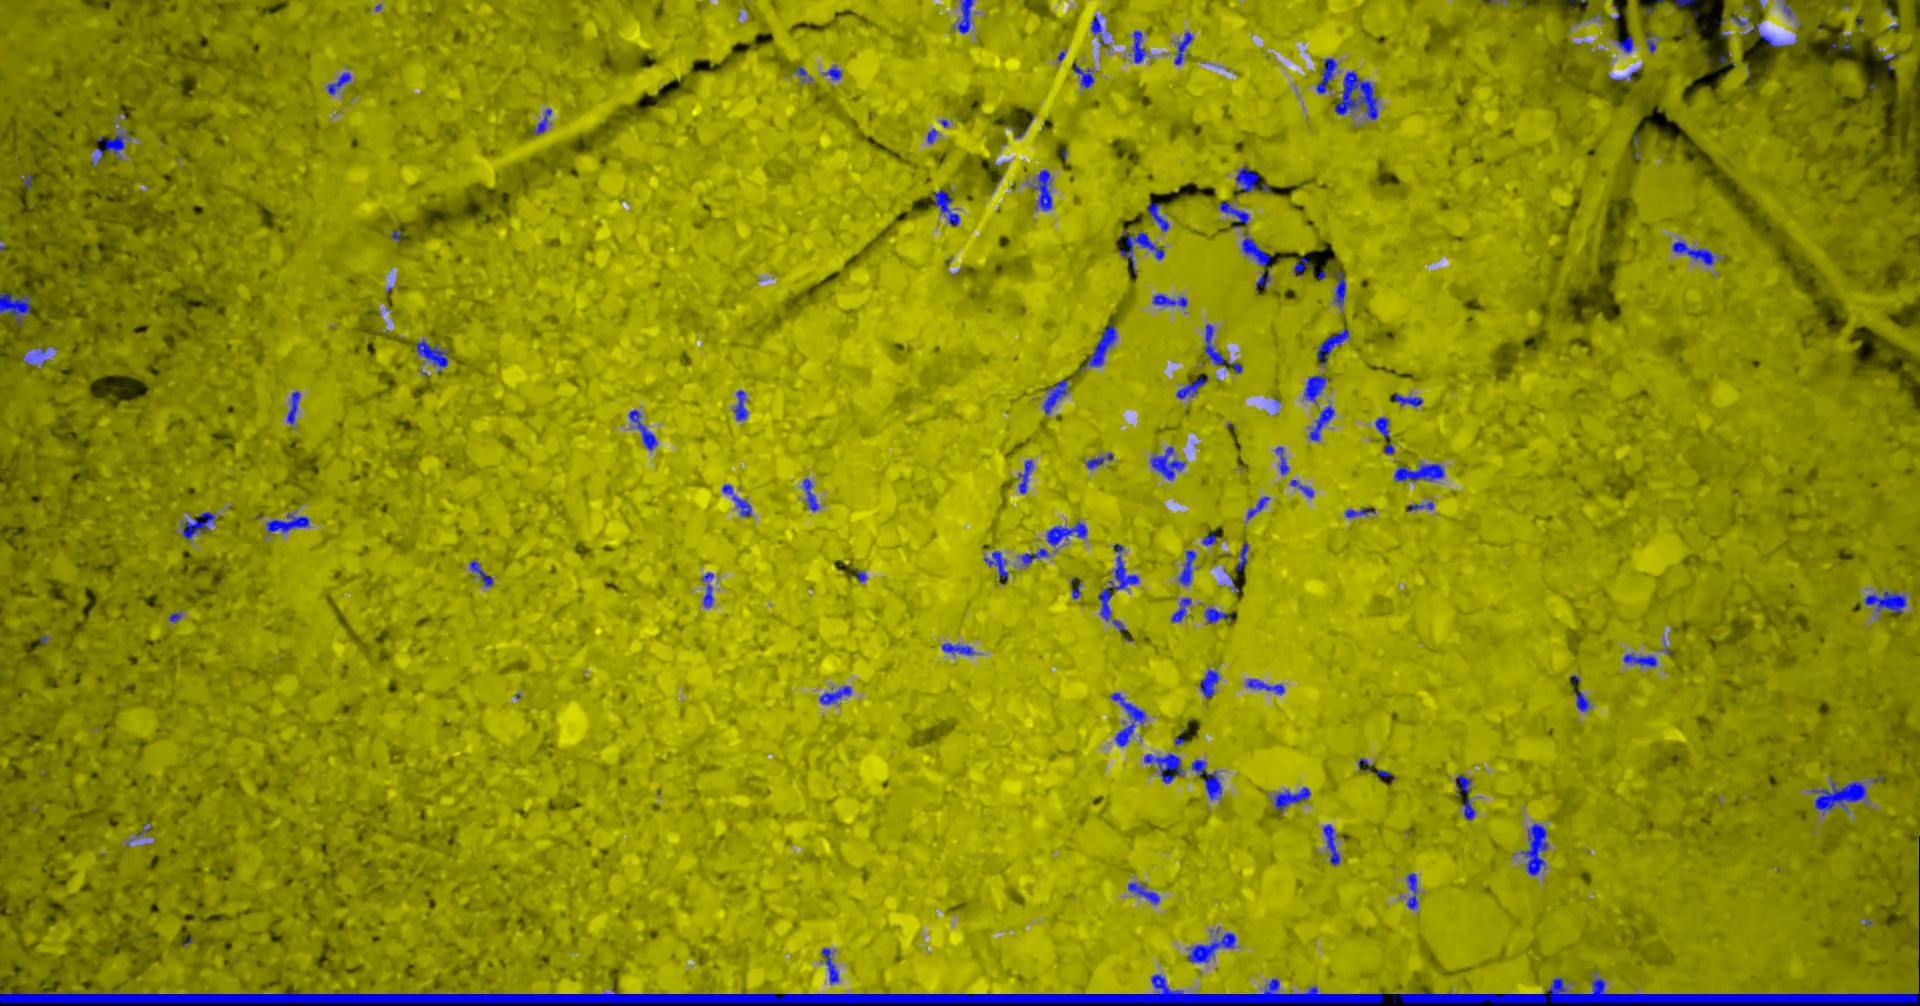ant: (1100, 542, 1140, 631), (1336, 70, 1379, 119), (1120, 229, 1166, 274), (1206, 323, 1244, 372), (1112, 692, 1147, 746), (1812, 780, 1868, 810), (1243, 234, 1272, 291), (1523, 822, 1549, 875), (1189, 932, 1237, 962), (1088, 324, 1117, 367), (1318, 326, 1351, 365), (1746, 22, 1798, 46), (1192, 760, 1223, 799), (630, 409, 659, 450), (1145, 753, 1185, 782), (417, 339, 450, 373), (1152, 446, 1186, 479), (1674, 240, 1716, 265), (1, 292, 32, 326), (933, 189, 961, 225), (1865, 591, 1909, 614), (1048, 521, 1088, 545), (723, 484, 753, 516), (183, 511, 217, 539), (1310, 403, 1336, 439), (1045, 379, 1070, 414), (1396, 464, 1446, 481), (1275, 788, 1312, 810), (1032, 169, 1053, 210), (267, 513, 310, 532), (1220, 201, 1250, 227), (1177, 373, 1209, 398), (985, 551, 1010, 583), (1129, 882, 1161, 904), (1318, 57, 1338, 93), (97, 133, 126, 158), (955, 0, 975, 33), (1324, 824, 1341, 864), (1180, 550, 1197, 586), (823, 948, 841, 983), (820, 685, 853, 704), (1305, 375, 1328, 401), (1149, 202, 1170, 231), (1201, 669, 1222, 699), (1176, 30, 1194, 64), (471, 560, 494, 586), (1248, 678, 1286, 694), (1022, 547, 1051, 567), (1237, 166, 1260, 191), (1248, 495, 1271, 520), (804, 478, 820, 511), (1074, 61, 1095, 88), (328, 72, 352, 94), (1092, 15, 1110, 44), (1172, 597, 1192, 622), (533, 108, 552, 133), (1154, 293, 1189, 307), (1020, 459, 1034, 493), (1335, 271, 1347, 307), (735, 390, 750, 420), (1134, 30, 1148, 64), (943, 641, 977, 655), (1625, 652, 1658, 666), (1206, 607, 1236, 622), (288, 391, 302, 423), (1291, 479, 1316, 497), (1276, 446, 1291, 474), (703, 572, 715, 607), (1396, 392, 1423, 406), (1295, 257, 1316, 276), (1088, 452, 1114, 467), (1576, 688, 1592, 711), (1408, 873, 1418, 909), (1457, 774, 1473, 795), (1238, 541, 1250, 572), (1346, 507, 1377, 517), (1617, 36, 1634, 52), (1377, 417, 1390, 437), (1464, 798, 1477, 819), (1410, 500, 1435, 511), (825, 65, 843, 79), (1647, 30, 1657, 53), (1203, 533, 1217, 545), (930, 128, 938, 144)
